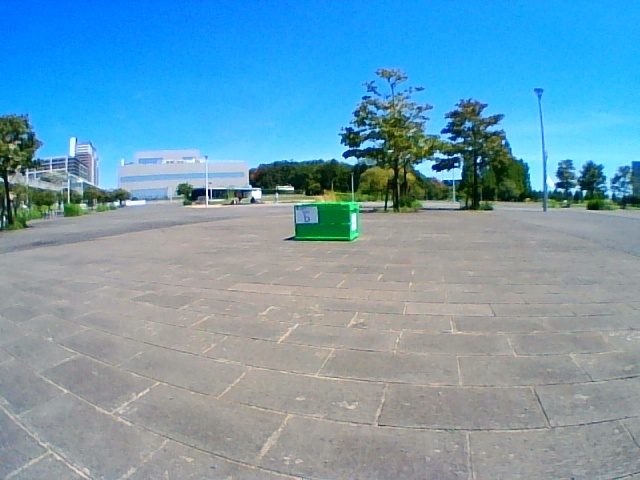green_box: (294, 202, 356, 238)
tag_b: (296, 207, 318, 223)
